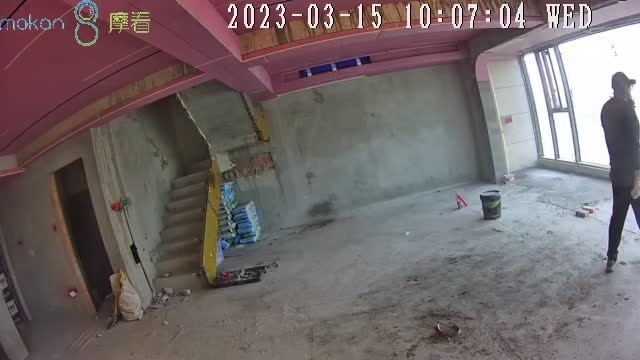people: (599, 72, 640, 271)
window: (520, 21, 640, 170)
